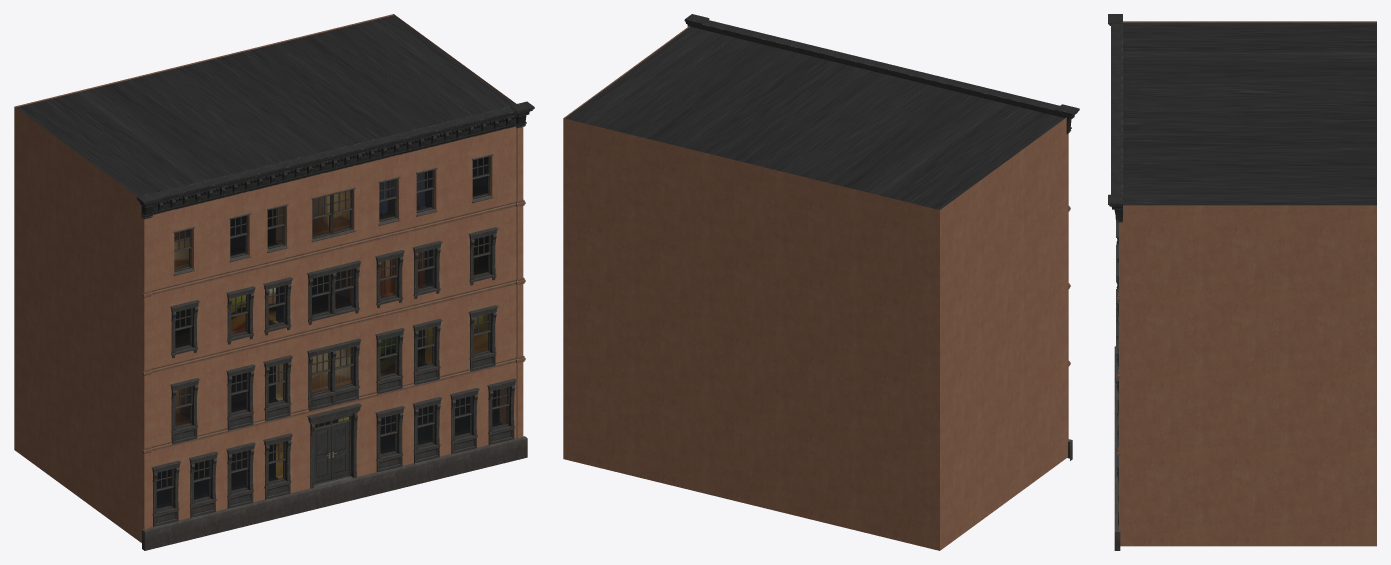
File: ApartmentBlock.obj
3 views of the same model, side by side, from view 1: azimuth 30°, elevation 25°; view 2: azimuth 150°, elevation 25°; view 3: azimuth 270°, elevation 25° (orthographic).
Parts seen in each view (by area): view 1: Plaster, CrownDark, WindowFrames, TrimStone, Interior, Glass; view 2: Plaster, CrownDark; view 3: Plaster, CrownDark, WindowFrames, TrimStone.
Part boxes in pixels (<box>): Plaster: <box>14,14,523,542</box>; CrownDark: <box>16,15,534,219</box>; WindowFrames: <box>151,156,516,527</box>; TrimStone: <box>142,154,527,550</box>; Interior: <box>156,157,501,508</box>; Glass: <box>157,157,507,508</box>; Plaster: <box>563,26,1068,550</box>; CrownDark: <box>565,14,1079,209</box>; Plaster: <box>1119,21,1376,546</box>; CrownDark: <box>1108,14,1376,222</box>; WindowFrames: <box>1114,221,1118,526</box>; TrimStone: <box>1114,292,1120,550</box>.
Bounding box in the file's own units: 15.71 × 13.53 × 9.43.
Materials: 6 (5 with a texture image).
